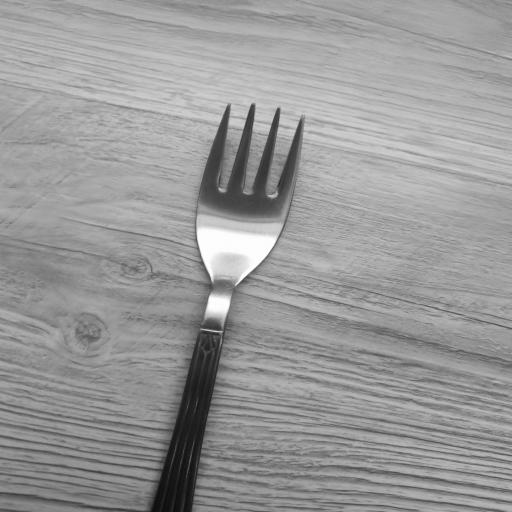fork: (148, 104, 312, 512)
